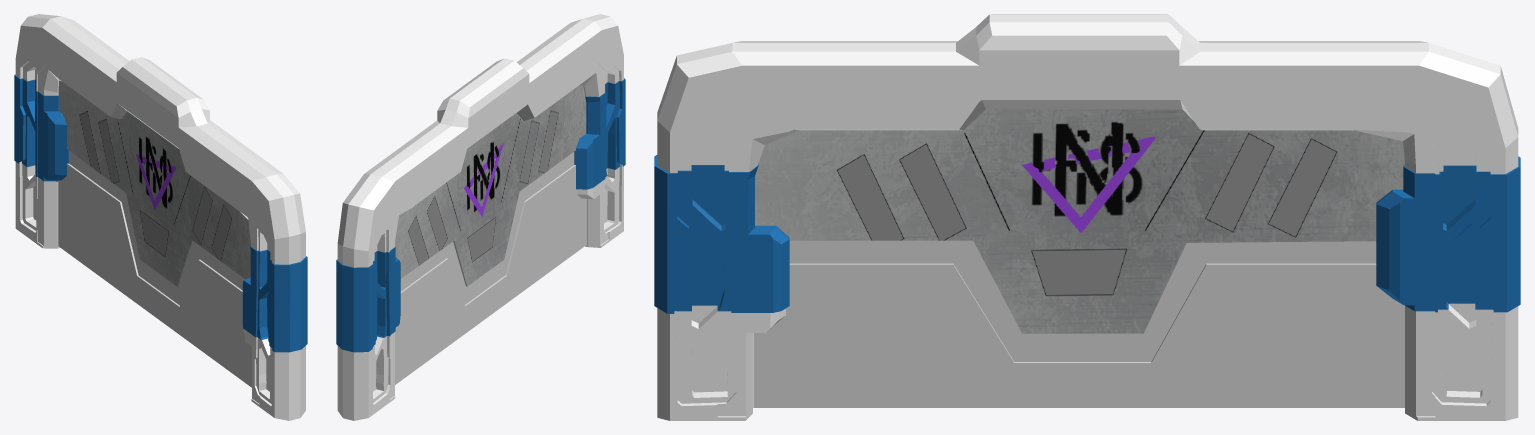
File: scifidoorMuradDDDDDDDDD.fbx
3 views of the same model, side by side, from view 1: azimuth 30°, elevation 25°; view 2: azimuth 150°, elevation 25°; view 3: azimuth 270°, elevation 25° (orthographic). The views are drawn at different scales.
Visible parts, largest first — view 1: Cube, Cube.002, Cube.003, Cube.004, Cube.001; view 2: Cube, Cube.002, Cube.003, Cube.004, Cube.001; view 3: Cube, Cube.002, Cube.003, Cube.004, Cube.001.
Part boxes in pixels (x1,y1,x2,y2): Cube: (15,14,305,420); Cube.002: (58,80,250,286); Cube.003: (58,163,251,387); Cube.004: (14,74,307,352); Cube.001: (69,150,245,305); Cube: (337,14,623,420); Cube.002: (395,85,586,286); Cube.003: (395,165,586,384); Cube.004: (336,78,625,352); Cube.001: (400,152,574,304); Cube: (657,14,1518,420); Cube.002: (755,109,1404,333); Cube.003: (753,263,1404,407); Cube.004: (654,155,1520,313); Cube.001: (789,240,1376,361).
Bounding box in the file's own units: 77.98 × 552 × 1095.
